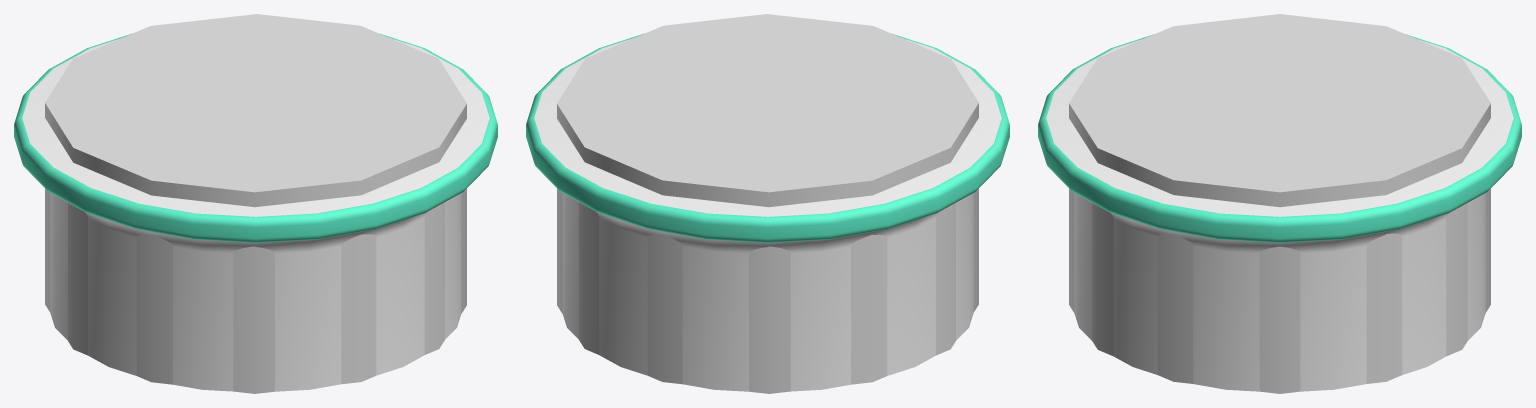
File: Bumper.fbx
3 views of the same model, side by side, from view 1: azimuth 30°, elevation 25°; view 2: azimuth 150°, elevation 25°; view 3: azimuth 270°, elevation 25° (orthographic).
Visible parts, largest first — view 1: Bumper COL, Bumper; view 2: Bumper COL, Bumper; view 3: Bumper COL, Bumper.
Boxes of the visible parts, bbox=[...] form: Bumper COL: bbox=[45, 14, 466, 393]; Bumper: bbox=[14, 33, 497, 391]; Bumper COL: bbox=[557, 14, 978, 393]; Bumper: bbox=[526, 33, 1009, 391]; Bumper COL: bbox=[1069, 14, 1490, 393]; Bumper: bbox=[1038, 34, 1521, 391].
Bounding box in the file's own units: 9.02 × 4.15 × 9.02.
